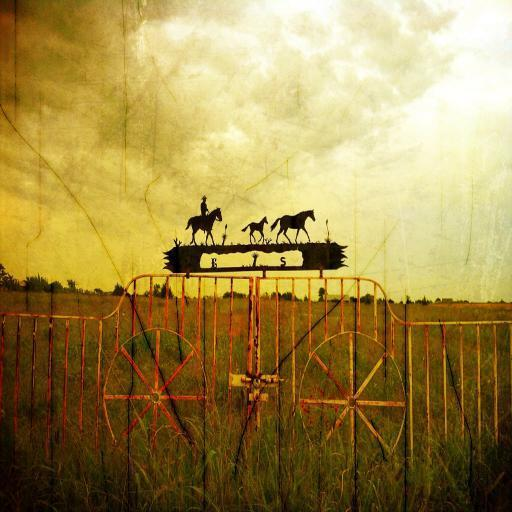horse: (269, 206, 316, 244), (184, 206, 222, 246), (243, 215, 269, 244)
